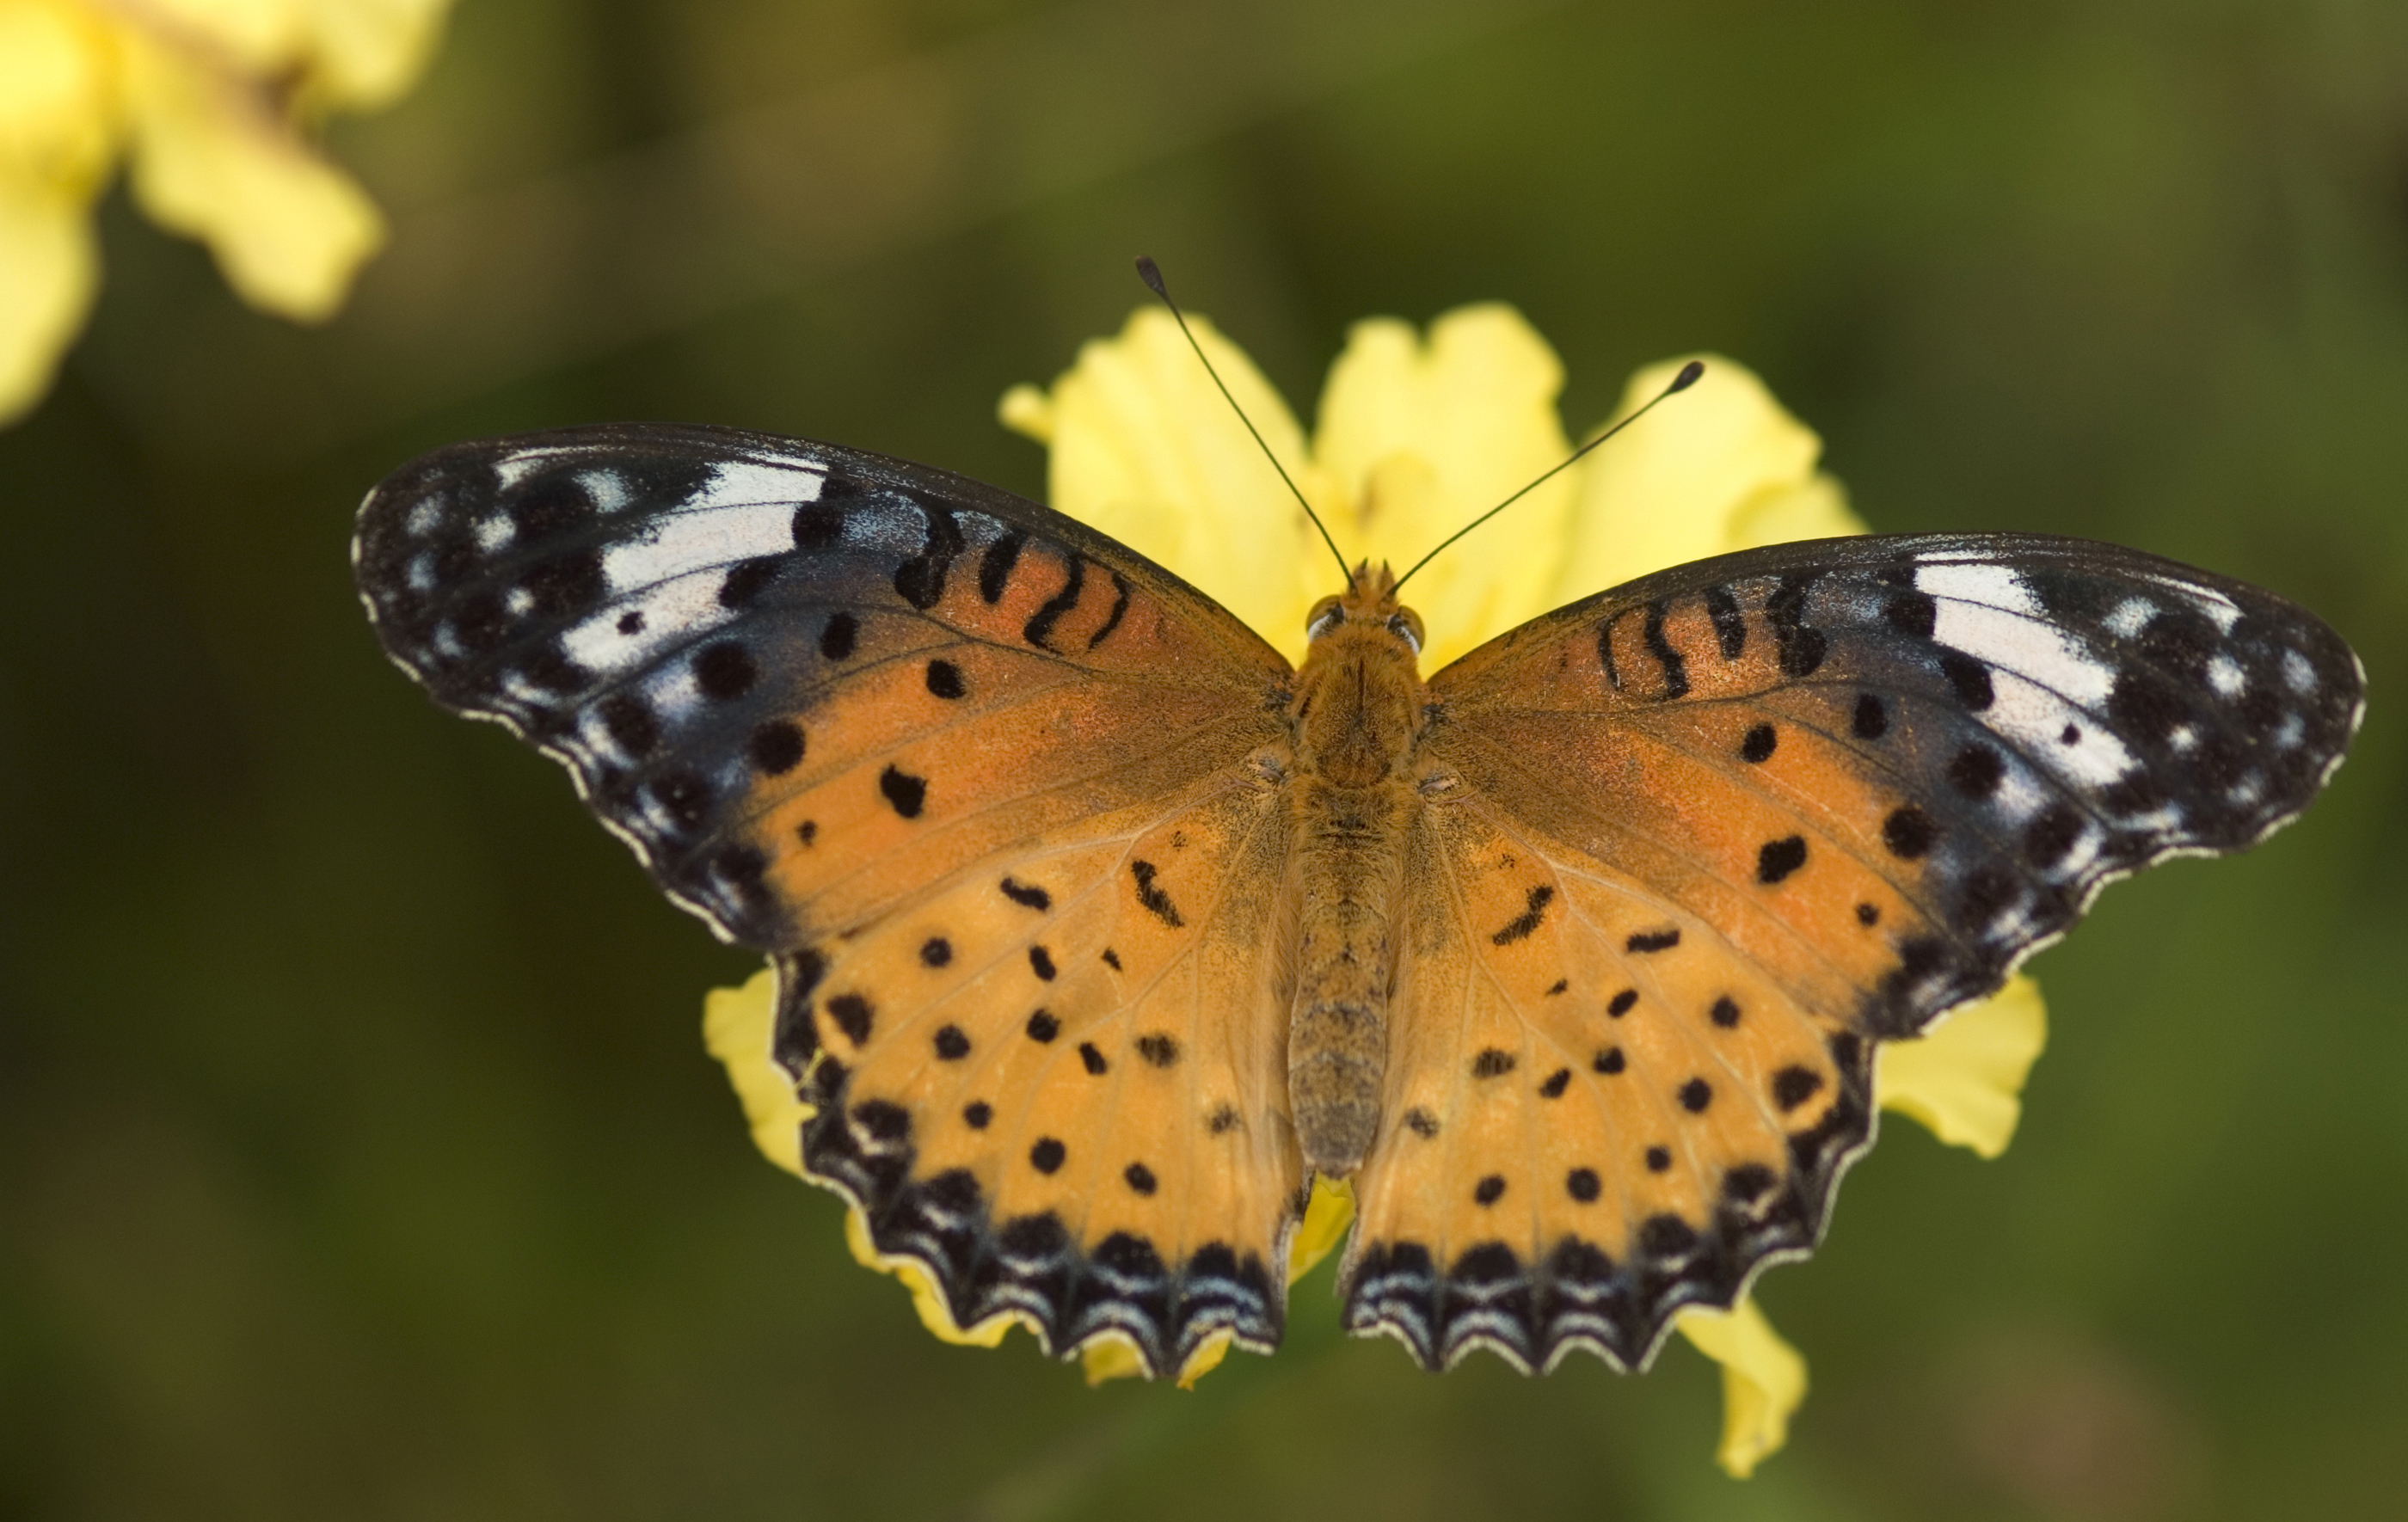Argyreus hyperbius: (340, 240, 2390, 1408)
butterfly: (342, 242, 2392, 1410)
